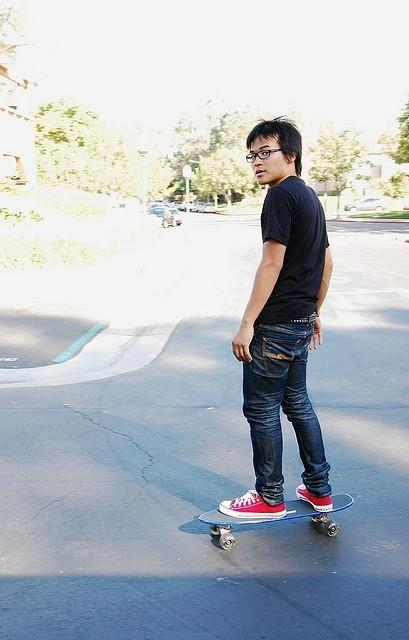car: (344, 195, 388, 212), (149, 208, 177, 228), (199, 202, 218, 214), (190, 204, 204, 213), (169, 200, 181, 210)
